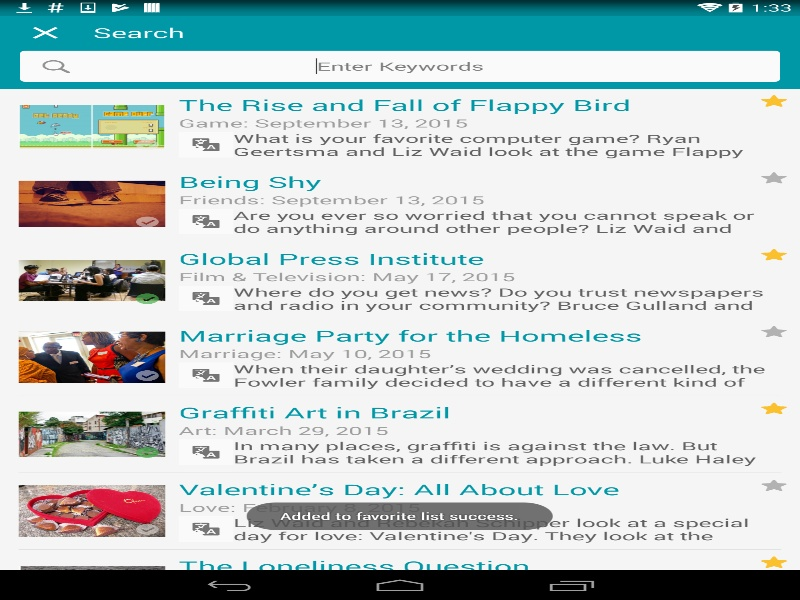Button: (10, 16, 80, 49), (178, 131, 233, 157), (178, 208, 233, 234), (178, 285, 233, 311), (178, 362, 233, 388), (178, 439, 233, 465), (178, 516, 233, 541)
Input: (18, 50, 781, 82)
